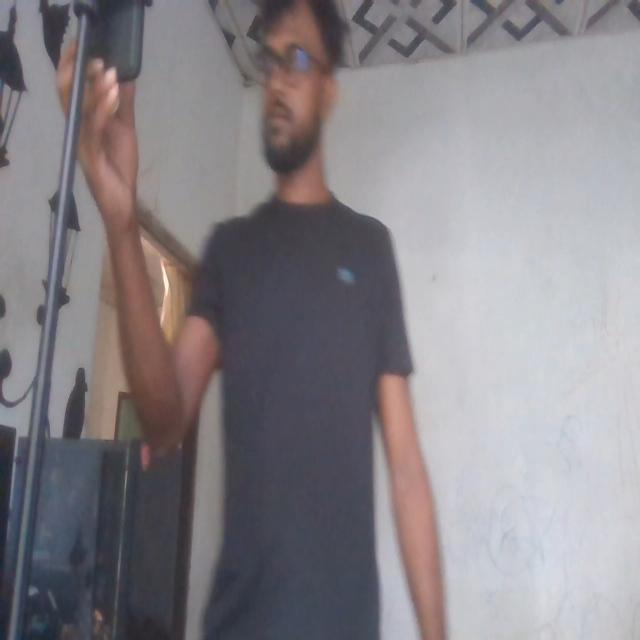Person: (176, 0, 432, 640)
